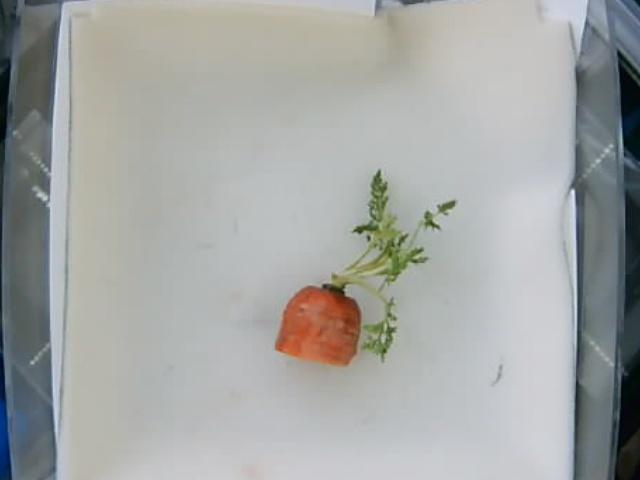Carrot: (276, 168, 457, 367)
